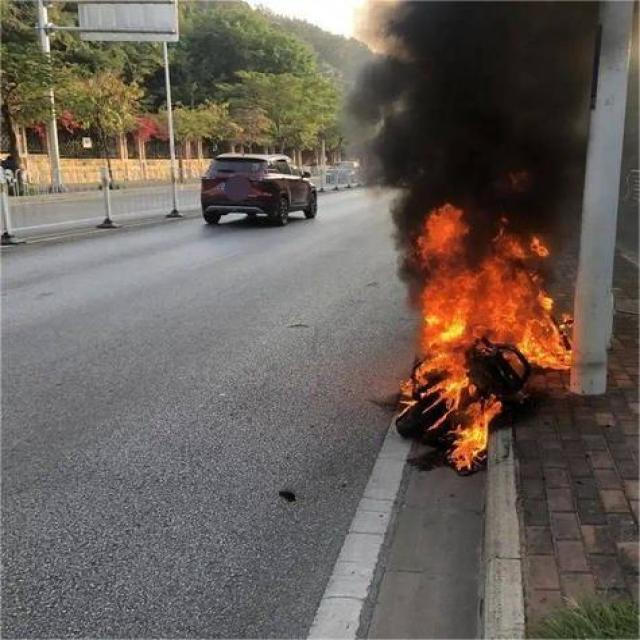Fire: (412, 205, 572, 362), (416, 366, 498, 471)
Smoke: (343, 0, 596, 202)
